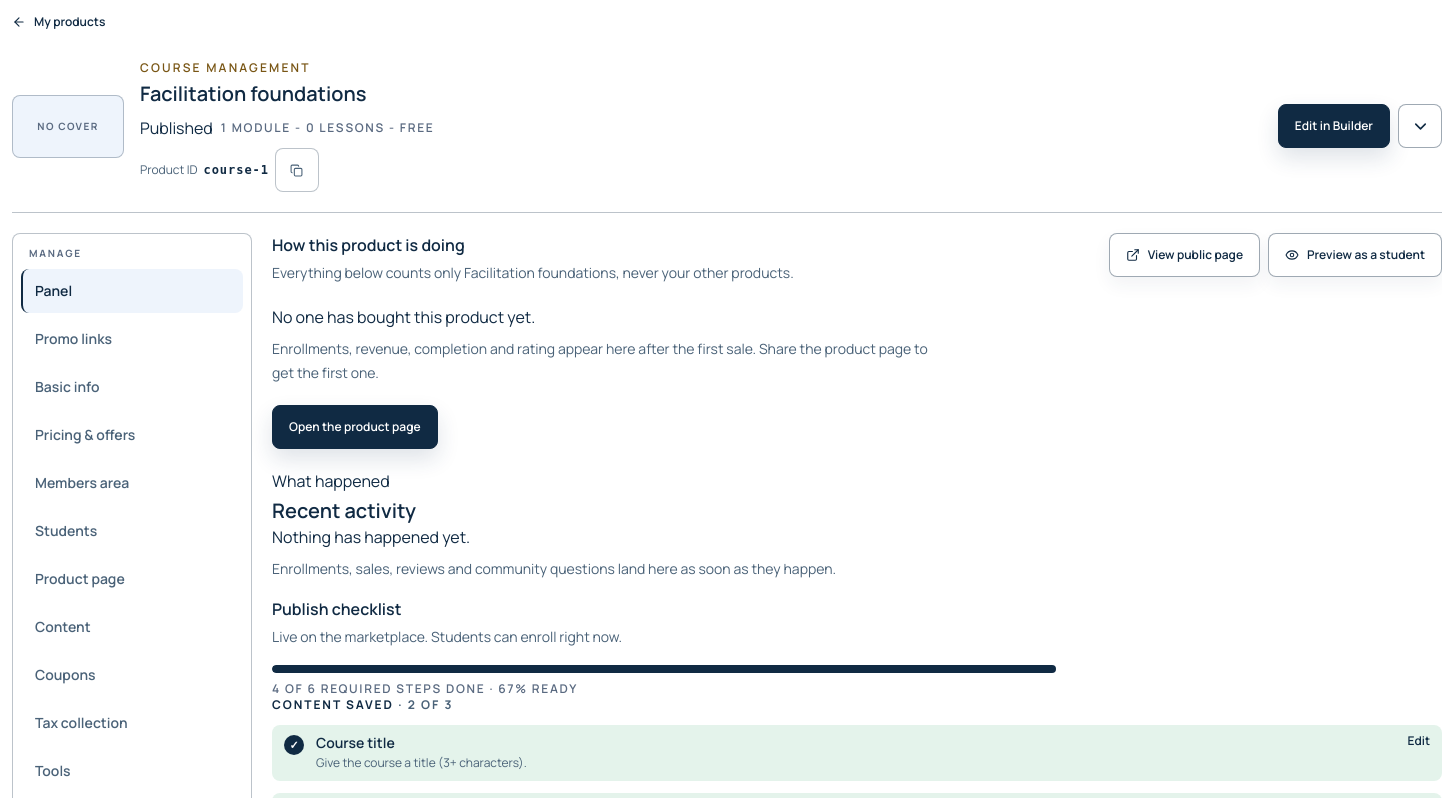
Test case: hub do curso — entrada de excluir/arquivar › oferece novo produto, prévia e excluir, nessa ordem, no cabeçalho
Click the button named "More actions for Facilitation foundations". click: (1420, 126)
box: [1398,104,1442,148]
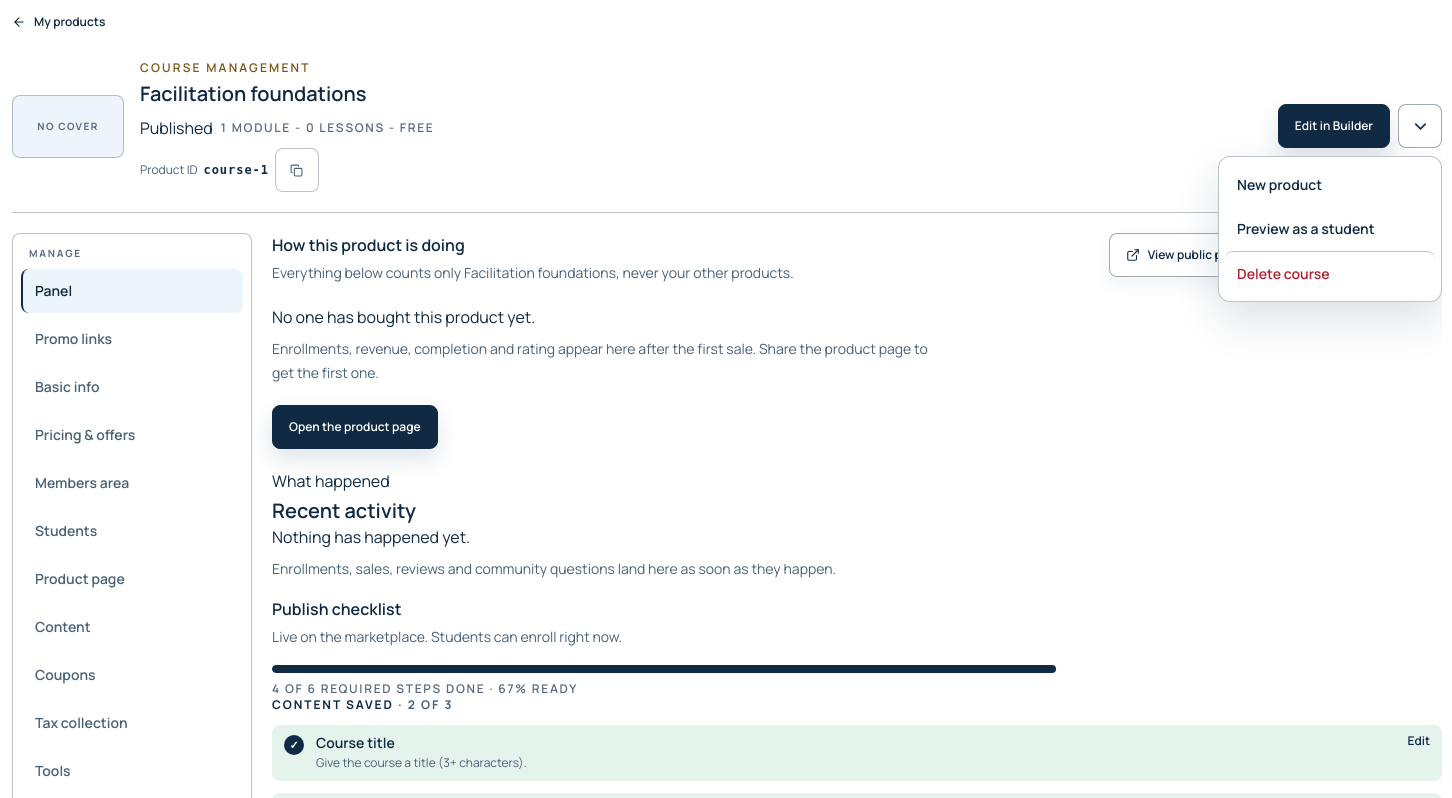
Now the menu items read "New product", "Preview as a student", "Delete course", in this order, box [1237,175,1322,194]; [1237,219,1375,238]; [1225,251,1435,295]
